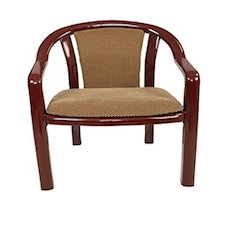chair: (9, 5, 208, 198)
